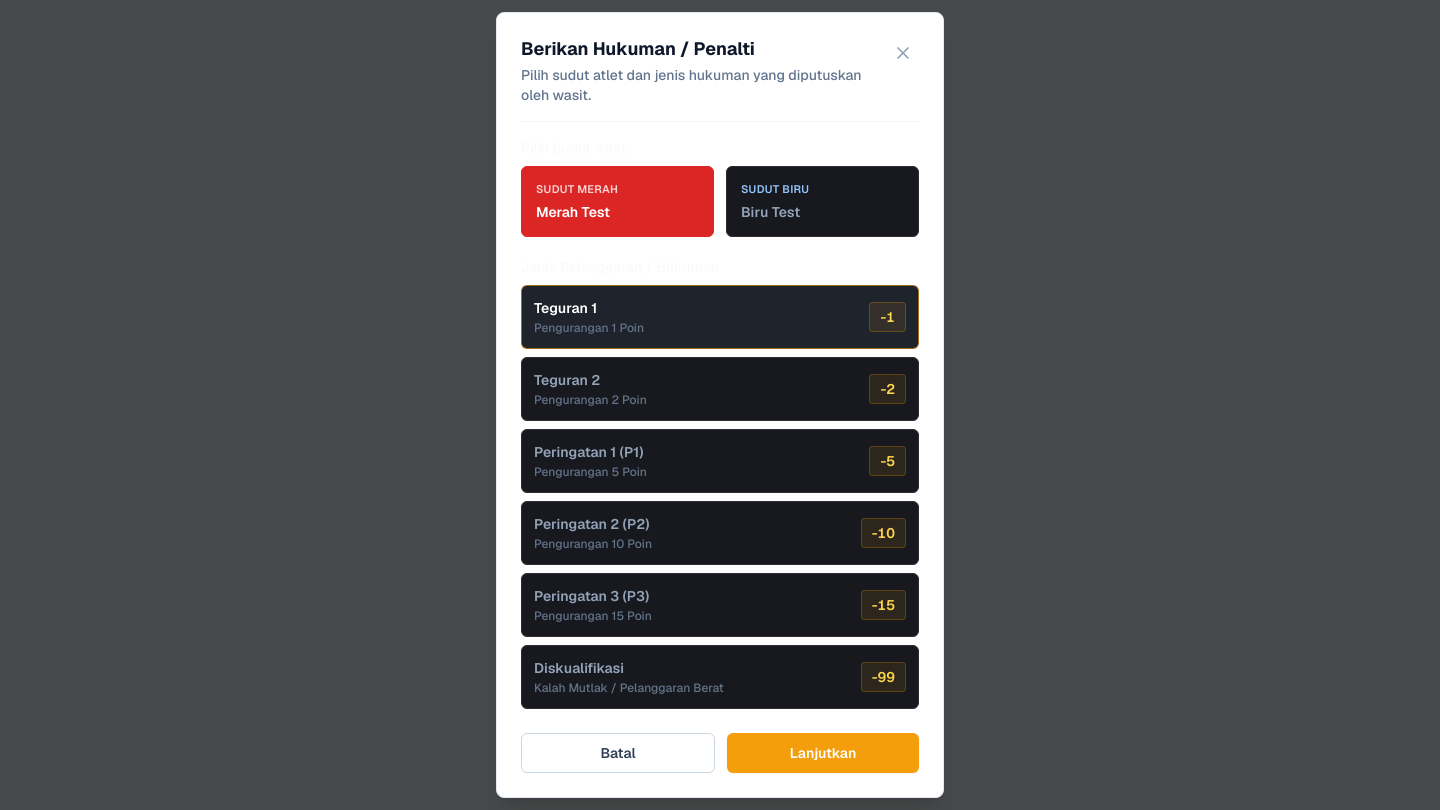
Scenario: PenaltyDialog › does not confirm from the selection step
The image size is (1440, 810).
Click the button "Lanjutkan" at {"x": 823, "y": 753}, box [727,733,919,773]
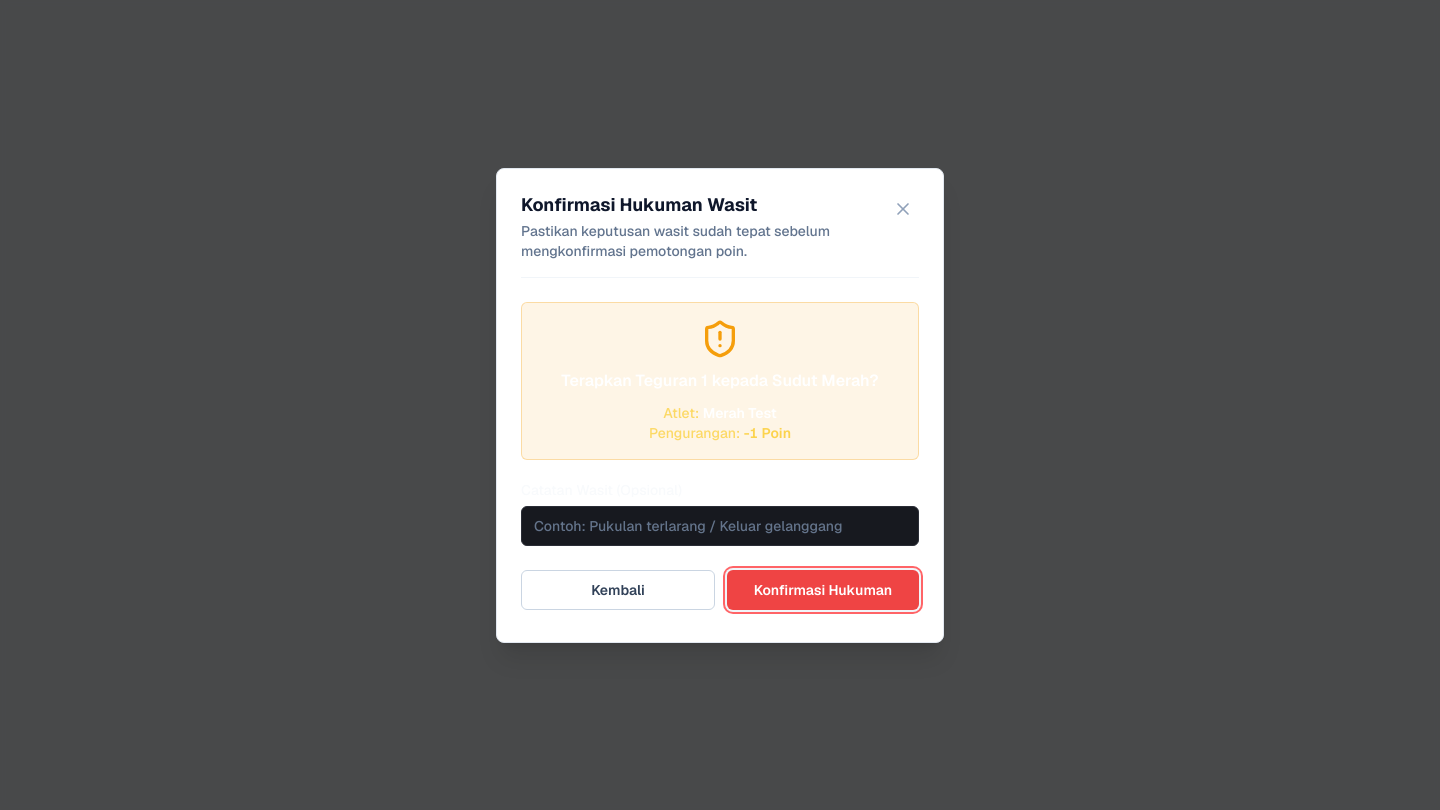
Expected: the heading "Konfirmasi Hukuman Wasit" is shown, [521,192,757,216]
